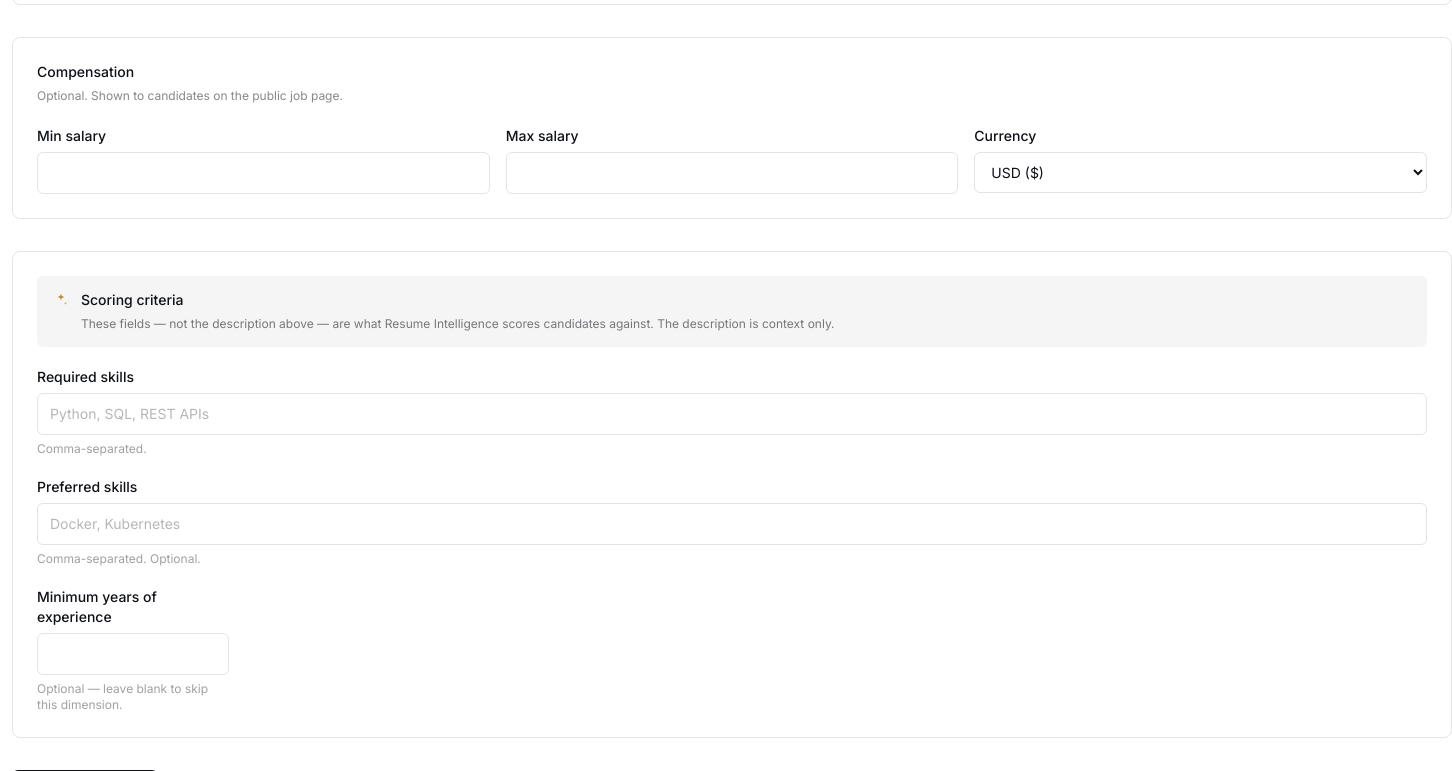
Test: JobCreateForm › previews the skills as chips while typing, dropping blank entries
(page scrolled)
Type "Python, SQL ,, REST APIs" into the field labelled "Required skills". click: (732, 414)
box: [37,393,1427,435]
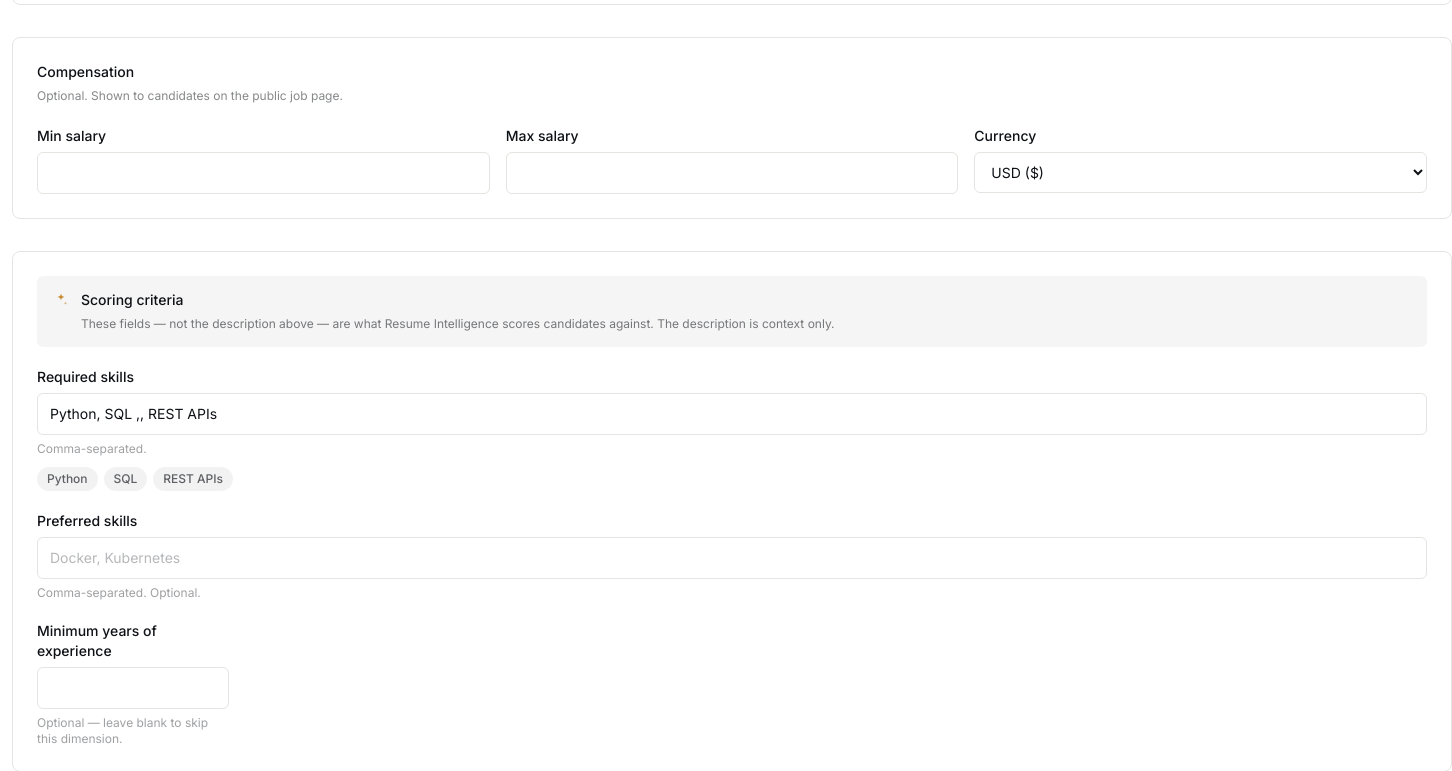
Expected: the list items read "Python", "SQL", "REST APIs", in this order, [37,467,98,491]; [104,467,147,491]; [153,467,233,491]
